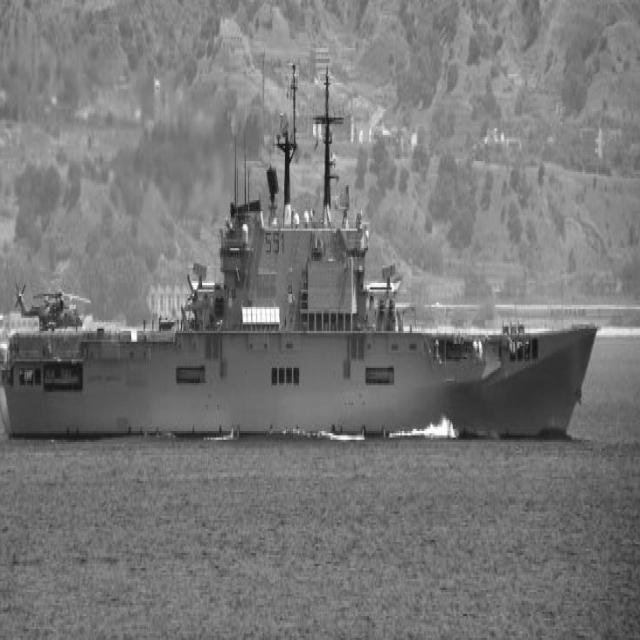Portanaves: (1, 54, 599, 450)
